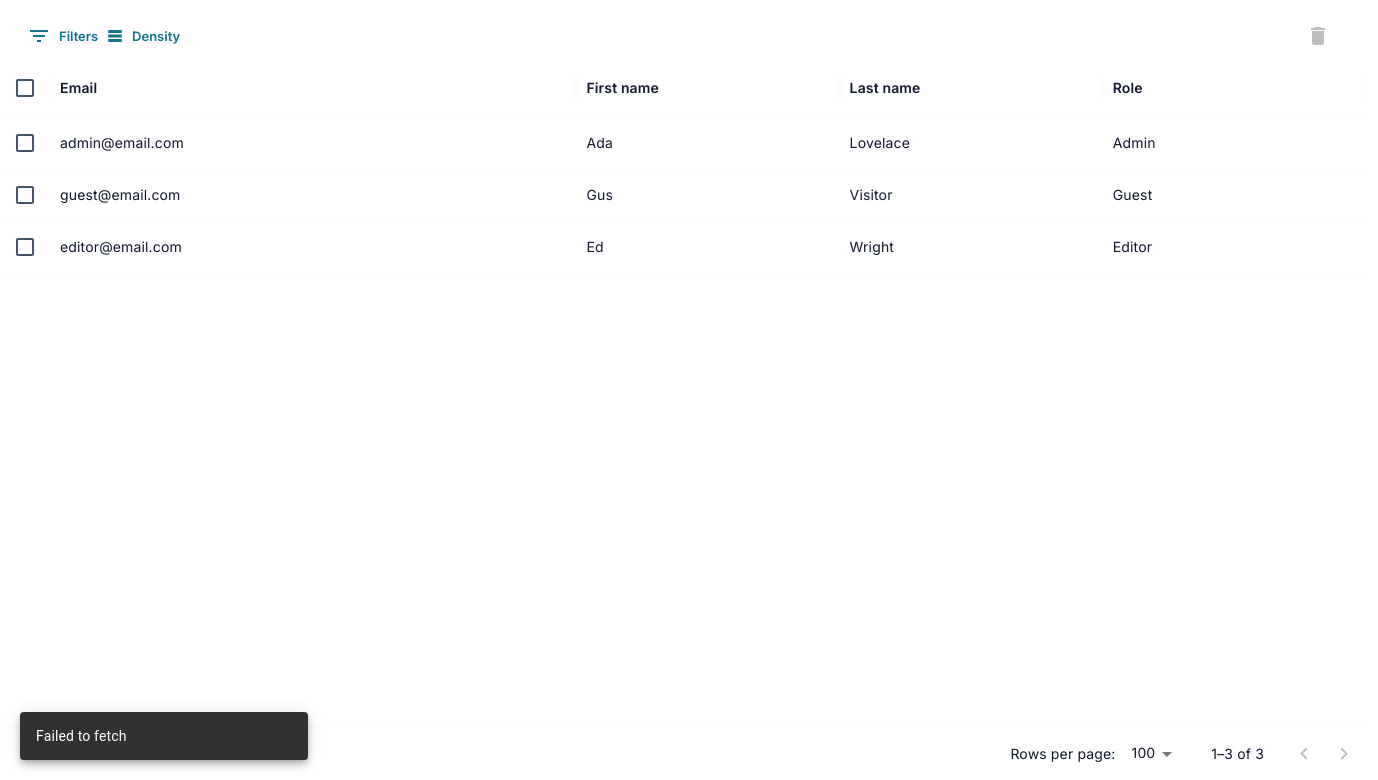
Test: UserList › deleting users › keeps the users and shows the error when deleting fails
expect the text "guest@email.com" is shown: met, box [50,168,576,220]
What coordinates should you click on to do the following:
click the checkbox named "Select row"
I would click on:
 (25, 194)
Its box is [13,182,37,206].
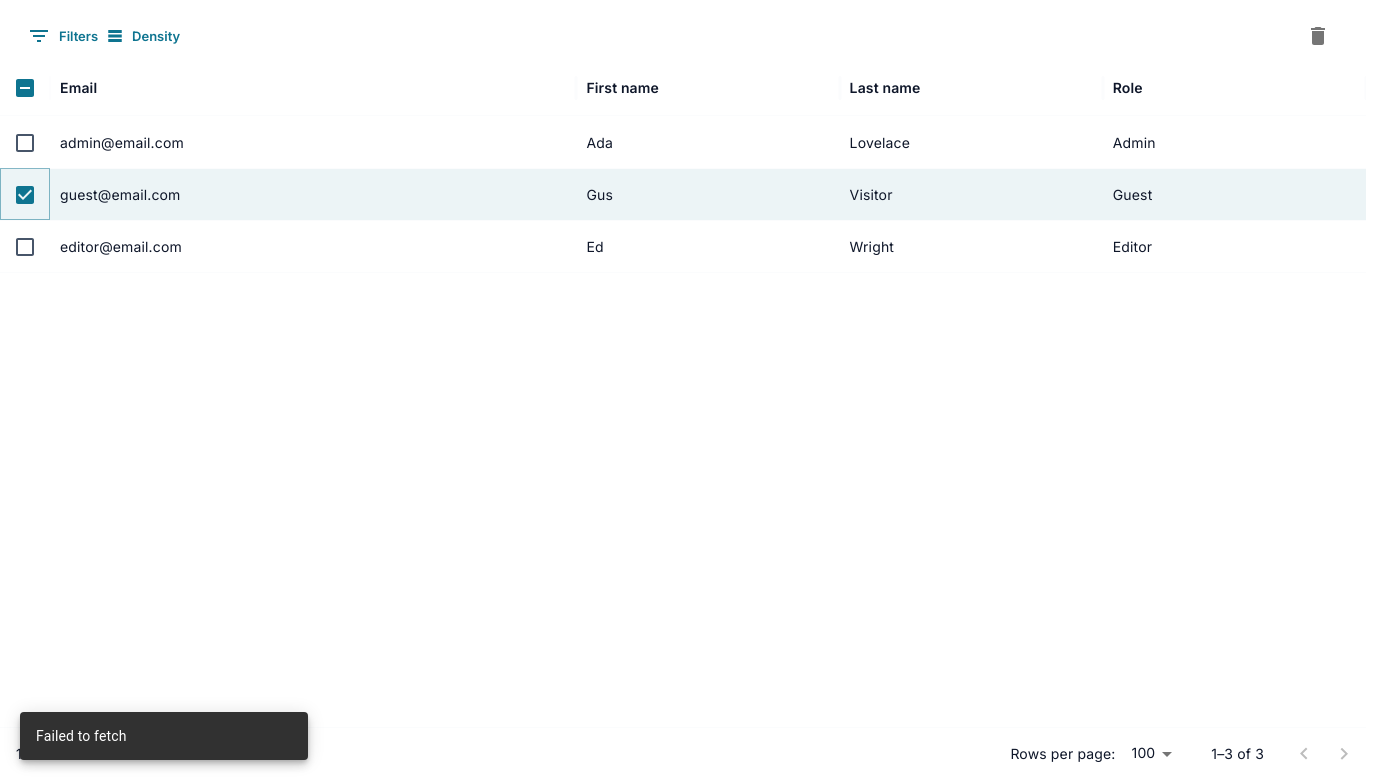
What coordinates should you click on to do the following:
click the 3rd button
I would click on:
 (1318, 36)
Its box is [1294,12,1342,60].
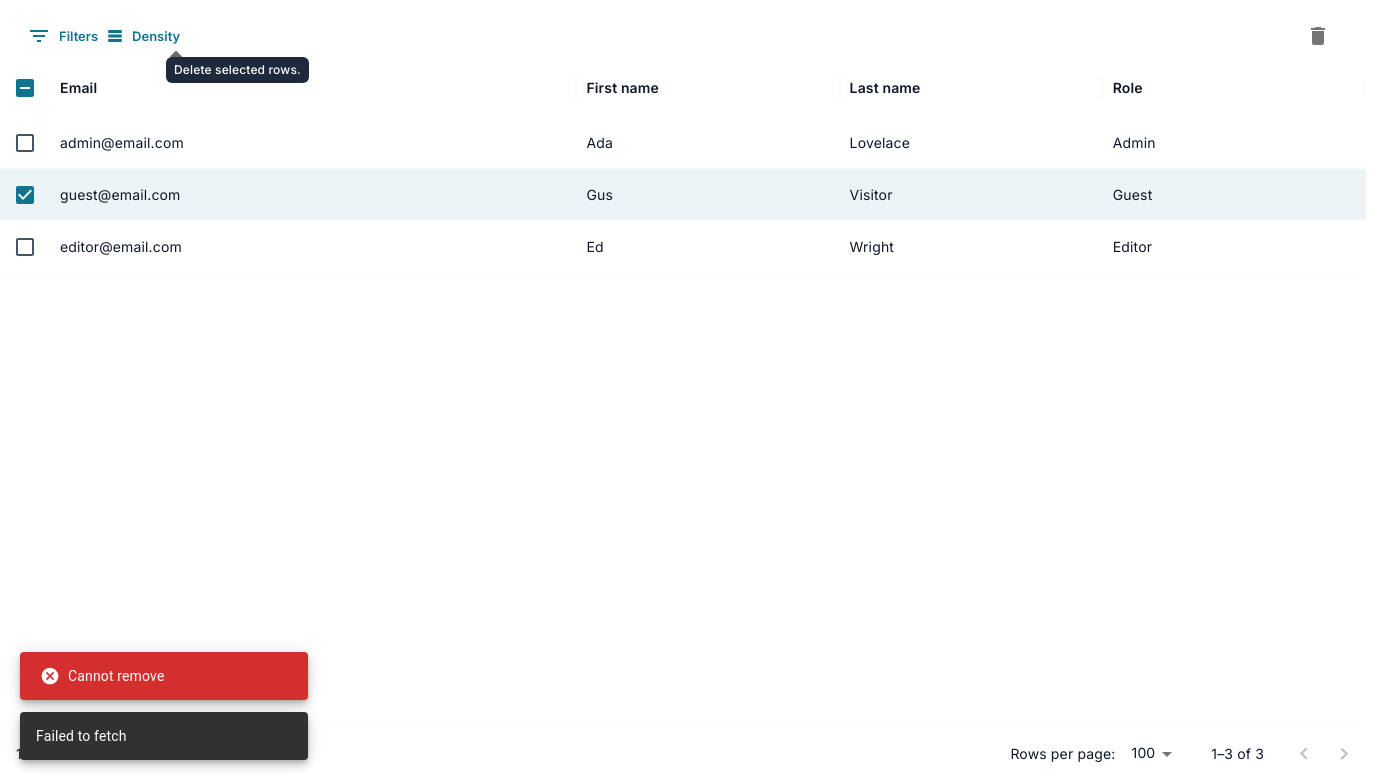
expect the text "guest@email.com" is shown: met, box [50,168,576,220]
expect the text "Cannot remove" is shown: met, box [40,666,164,686]
